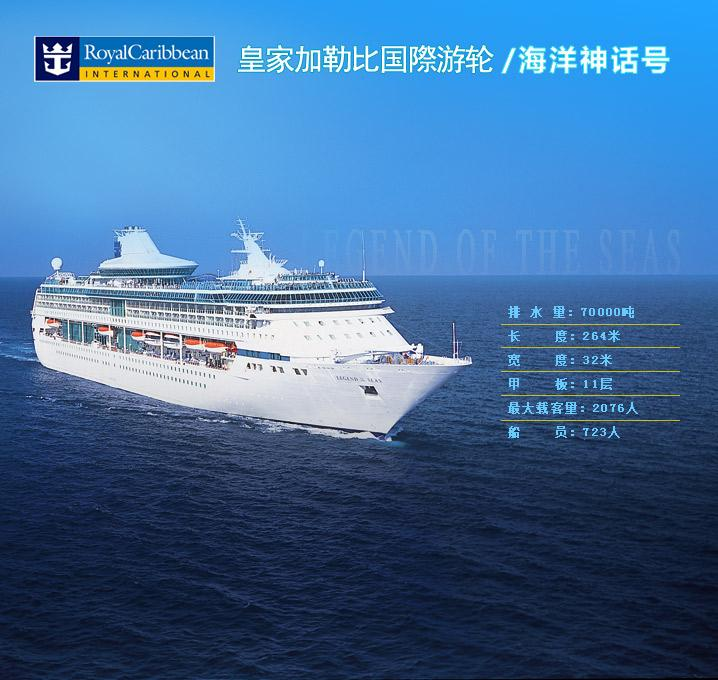youlun: (24, 221, 475, 439)
